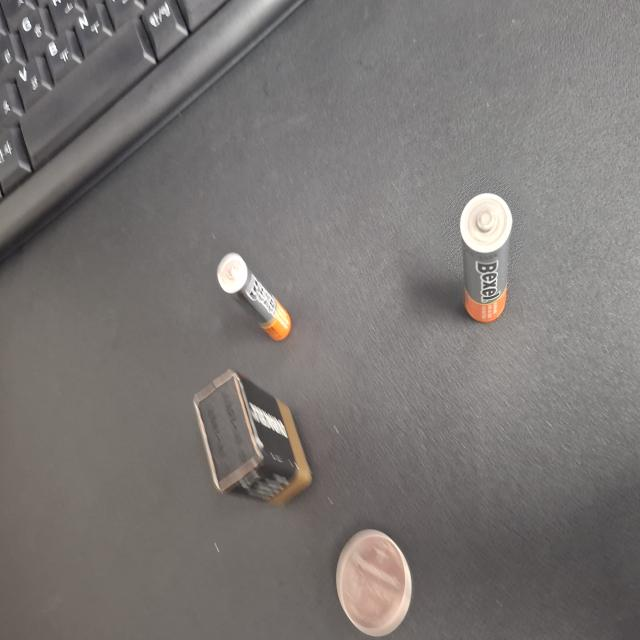9V: (102, 258, 203, 414)
AA: (238, 613, 335, 640)
AAA: (224, 290, 290, 388)
COIN: (3, 448, 83, 549)
